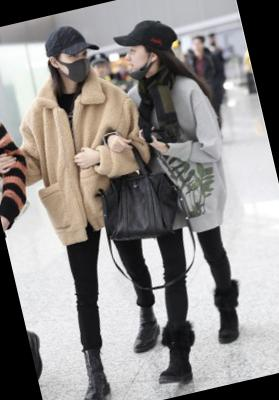mask_weared_incorrect: (121, 41, 155, 79)
with_mask: (55, 47, 95, 86)
